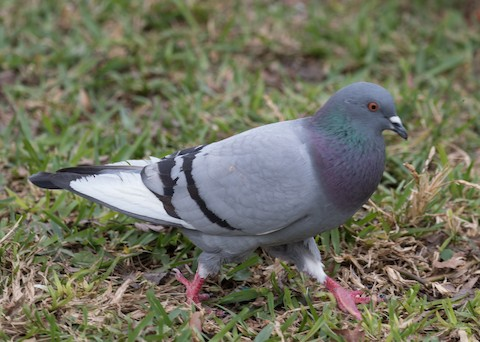pigeon: (25, 77, 415, 328)
